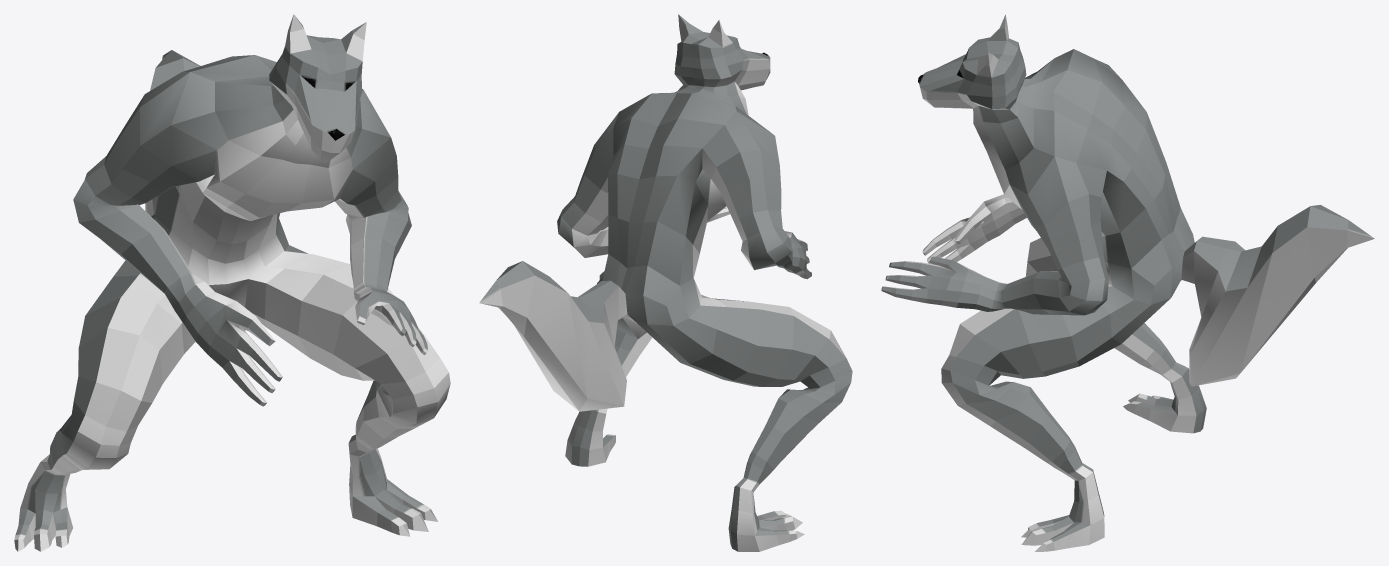
File: WolfAttack(65).obj
3 renders of one model, left to right at view 1: azimuth 30°, elevation 25°; view 2: azimuth 150°, elevation 25°; view 3: azimuth 270°, elevation 25°, orthographic. The views are drawn at different scales.
Parts seen in each view (by area): view 1: Box001; view 2: Box001; view 3: Box001.
Boxes of the visible parts, x1,y1,x2,y2 form: Box001: (14,14,450,551); Box001: (479,14,852,551); Box001: (881,14,1374,551).
Size of the model in its own units: 78.94 by 119 by 112.
